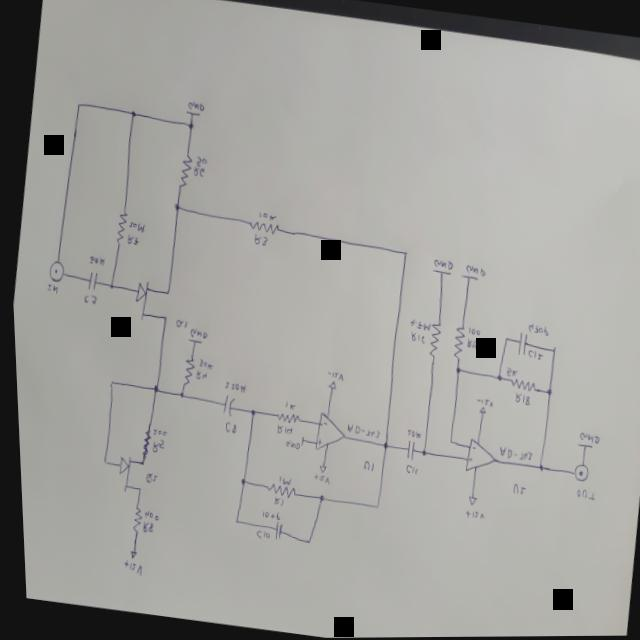capacitor: (216, 394, 232, 418), (511, 330, 526, 355), (82, 269, 97, 291), (398, 439, 411, 462), (267, 519, 278, 541)
ground: (428, 268, 449, 277), (456, 273, 475, 281), (571, 441, 590, 449), (182, 336, 200, 344), (183, 109, 200, 116), (294, 434, 301, 446)
junction: (170, 202, 179, 213), (532, 462, 540, 473), (415, 449, 423, 458), (128, 108, 136, 117), (312, 493, 320, 502), (450, 366, 458, 375), (541, 387, 548, 397), (103, 379, 111, 387), (376, 441, 383, 450), (185, 121, 192, 130), (491, 373, 498, 382), (174, 391, 181, 400), (96, 457, 103, 466), (234, 478, 241, 486), (442, 438, 449, 446), (546, 346, 553, 354), (147, 385, 154, 392), (105, 282, 111, 290), (74, 100, 80, 108), (245, 408, 251, 415), (399, 250, 405, 257), (368, 503, 374, 510), (500, 336, 505, 343), (300, 539, 305, 545), (229, 518, 234, 524)
resistor: (109, 209, 127, 246), (422, 322, 440, 359), (259, 480, 292, 499), (174, 152, 191, 187), (446, 325, 463, 360), (503, 376, 534, 394), (177, 356, 193, 387), (244, 221, 278, 235), (125, 504, 138, 534), (135, 429, 148, 457), (271, 412, 295, 425)
source: (461, 494, 473, 507), (321, 380, 333, 391), (473, 406, 483, 416), (122, 549, 133, 558), (313, 464, 322, 474)
terminal: (43, 258, 62, 284), (566, 461, 586, 483)
text: (340, 421, 377, 440), (492, 446, 529, 463), (522, 322, 546, 338), (572, 431, 597, 446), (116, 558, 138, 575), (405, 318, 428, 333), (219, 380, 243, 394), (569, 488, 591, 503), (461, 264, 483, 278), (508, 392, 528, 407), (429, 258, 451, 271), (183, 328, 205, 341), (270, 422, 289, 437), (83, 254, 103, 268), (459, 508, 480, 521), (145, 438, 161, 454), (249, 234, 267, 248), (125, 219, 143, 233), (405, 330, 423, 344), (254, 210, 275, 222), (470, 396, 490, 408), (78, 292, 95, 306), (256, 509, 275, 521), (185, 100, 204, 112), (356, 458, 371, 473), (398, 462, 414, 476), (505, 482, 521, 496), (122, 232, 138, 246), (193, 357, 210, 370), (308, 473, 326, 485), (522, 349, 540, 361), (322, 370, 340, 382), (218, 421, 233, 435), (279, 438, 296, 450), (139, 471, 153, 485), (135, 520, 149, 534), (190, 164, 204, 178), (190, 367, 204, 381), (461, 338, 476, 351), (138, 509, 154, 521), (171, 317, 185, 330), (250, 529, 265, 541), (401, 428, 416, 440), (147, 426, 162, 438), (463, 325, 478, 337), (273, 474, 287, 486), (500, 367, 515, 378), (267, 495, 280, 507), (192, 156, 205, 168), (42, 282, 55, 294), (280, 399, 292, 410), (311, 437, 318, 446), (463, 457, 468, 464), (318, 420, 323, 426), (466, 445, 471, 450)
transistor: (127, 277, 170, 326), (109, 454, 141, 495)
